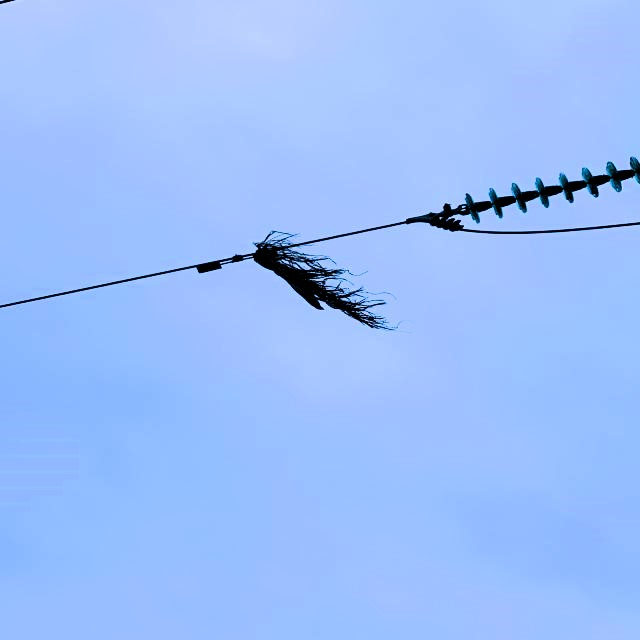wire foreign body: (249, 209, 400, 332)
